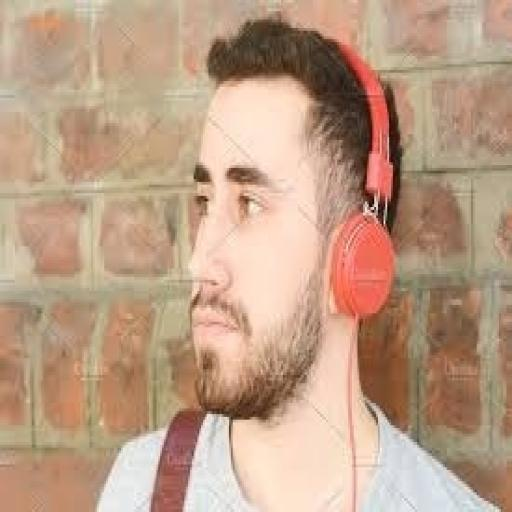listening_to_music: (93, 14, 505, 509)
